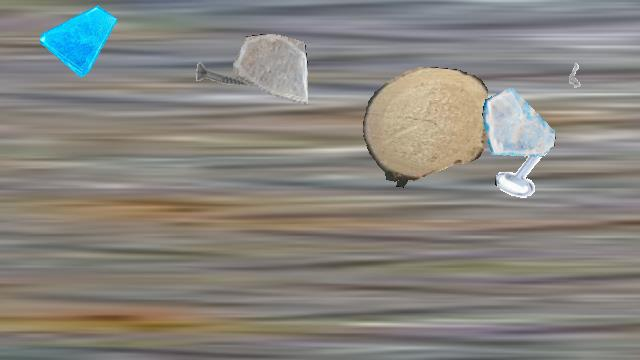glass: (40, 1, 116, 77), (233, 34, 307, 108), (482, 85, 556, 159)
metal: (194, 43, 256, 105), (495, 139, 557, 201), (556, 52, 594, 90)
wood: (363, 67, 487, 189)
